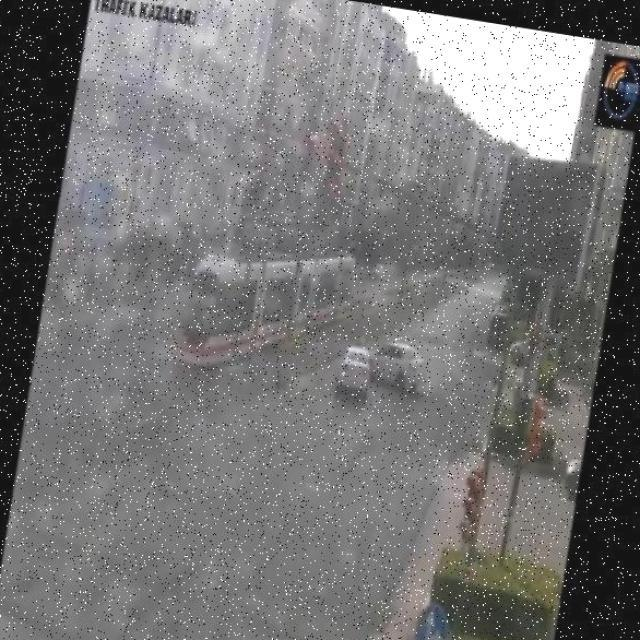accident: (331, 325, 432, 407)
